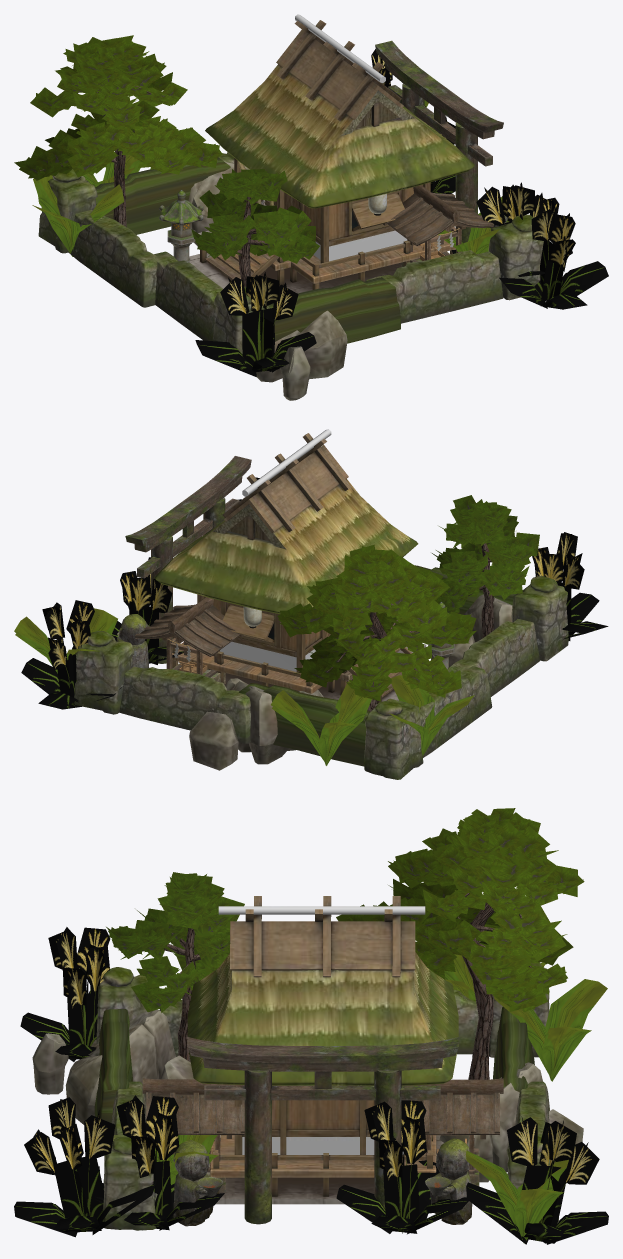
The model's file is 64-shrinejapanese.glb.
3 renders of one model, top to bottom at view 1: azimuth 30°, elevation 25°; view 2: azimuth 150°, elevation 25°; view 3: azimuth 270°, elevation 25°, orthographic. The views are drawn at different scales.
Size of the model in its own units: 7.95 by 4.12 by 7.79.
16 materials, 16 textured.
